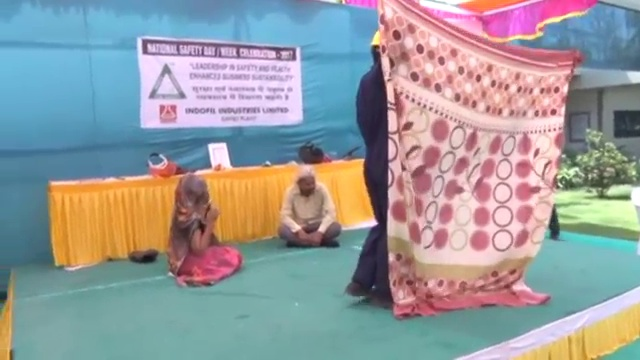helmet_off: (179, 174, 209, 205), (294, 167, 316, 197)
person: (353, 30, 393, 308), (168, 174, 244, 287), (276, 165, 342, 245)
